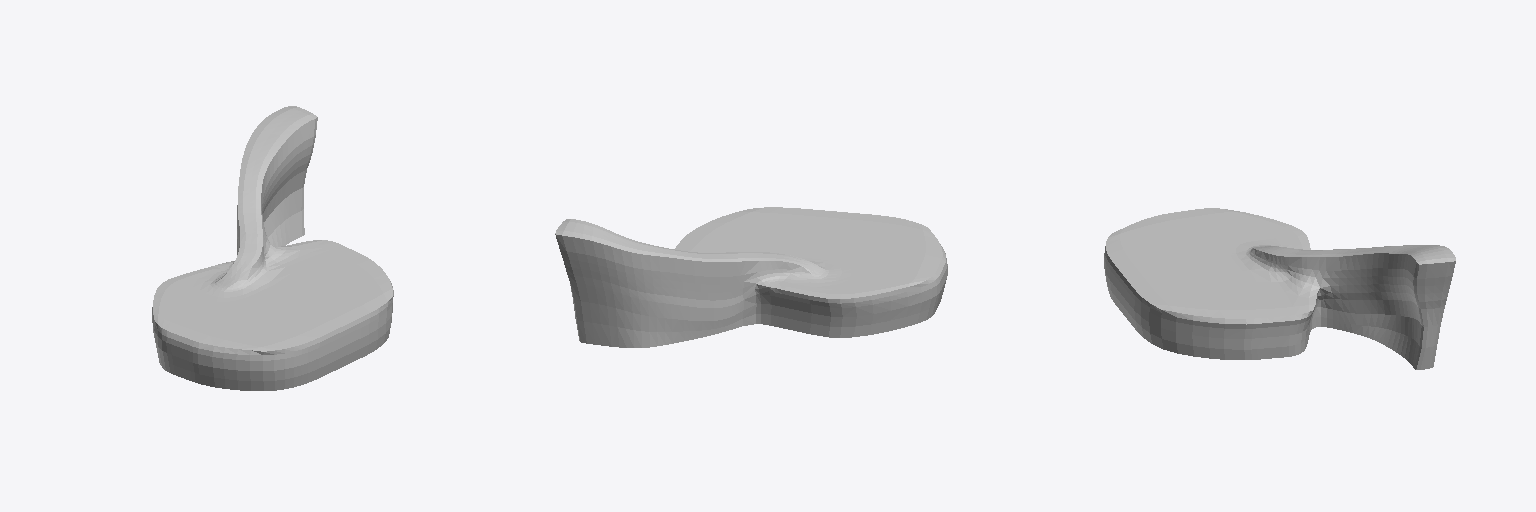
Rendered from Rock_3.obj.
The picture shows the model from 3 angles: view 1: azimuth 30°, elevation 25°; view 2: azimuth 150°, elevation 25°; view 3: azimuth 270°, elevation 25°; orthographic projection.
Visible parts, largest first — view 1: Plane.001; view 2: Plane.001; view 3: Plane.001.
Part boxes in pixels (x1,y1,x2,y2): Plane.001: (152, 106, 393, 390); Plane.001: (555, 207, 947, 347); Plane.001: (1104, 208, 1455, 369).
Bounding box in the file's own units: 96.28 × 39.91 × 111.